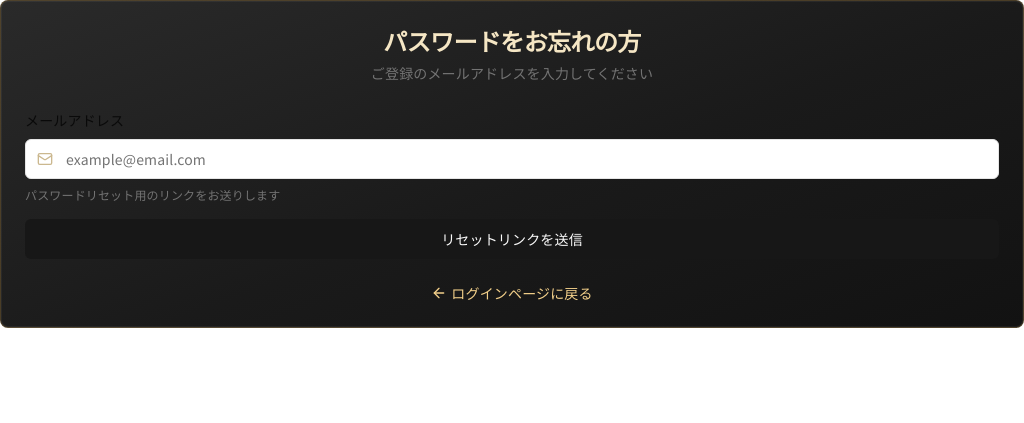
Scenario: ForgotPasswordForm › shows an honest retry message on a rate-limit response
Step 1. Type "nonexistent@example.com" into the field labelled "メールアドレス" → (512, 159), box left=25, top=139, right=999, bottom=179
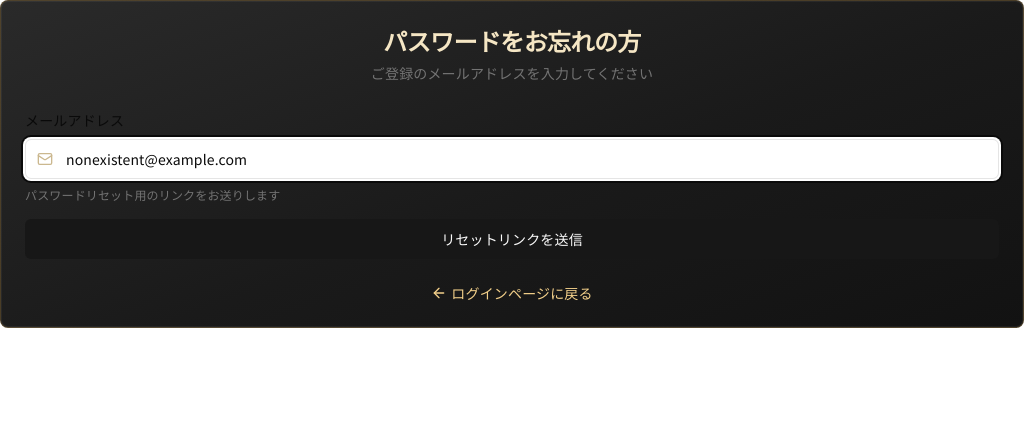
Step 2. Click the button "リセットリンクを送信" → (512, 239), box left=25, top=219, right=999, bottom=259
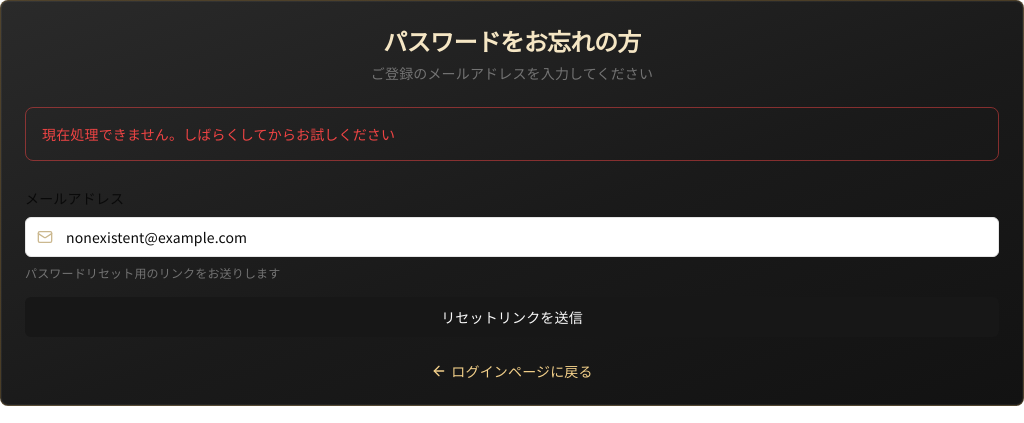
Expected: the text "現在処理できません。しばらくしてからお試しください" is shown, left=42, top=124, right=395, bottom=144
